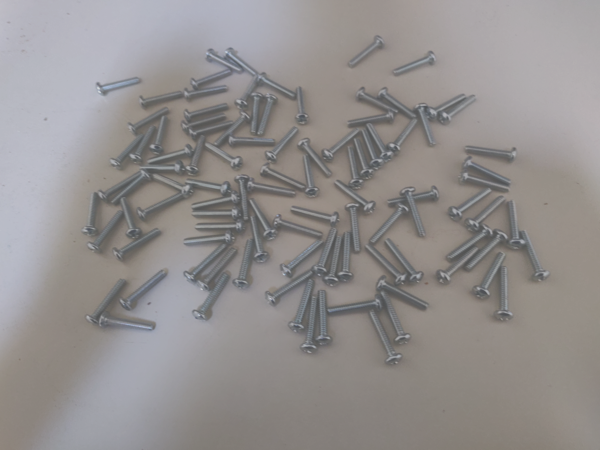longscrew: (121, 262, 169, 310), (385, 234, 426, 286), (464, 232, 513, 273), (435, 247, 484, 288), (377, 274, 431, 311), (363, 239, 405, 286), (136, 186, 187, 223), (381, 286, 411, 348), (195, 273, 232, 323), (282, 237, 328, 277), (367, 205, 414, 244), (370, 308, 401, 367), (522, 230, 555, 284), (87, 280, 126, 324), (89, 209, 127, 254), (264, 273, 314, 307), (114, 226, 162, 261), (185, 245, 231, 280), (472, 256, 511, 297), (199, 249, 240, 288), (445, 228, 496, 259), (326, 291, 384, 318), (288, 282, 318, 333), (100, 166, 141, 202), (384, 181, 438, 208), (334, 179, 375, 214), (94, 66, 141, 96), (466, 198, 511, 229), (447, 188, 492, 219), (110, 170, 149, 204), (205, 137, 246, 169), (461, 170, 511, 196), (248, 198, 278, 241), (495, 266, 518, 322), (110, 132, 143, 171), (321, 131, 361, 163), (310, 227, 336, 276), (385, 118, 419, 155), (379, 85, 417, 118), (299, 139, 332, 177), (265, 126, 303, 159), (465, 156, 511, 183), (131, 100, 171, 131), (403, 185, 425, 241), (146, 139, 194, 164), (216, 111, 250, 146), (357, 86, 399, 114), (414, 100, 437, 151), (316, 288, 335, 349), (302, 294, 321, 355), (97, 312, 158, 331), (273, 214, 323, 237), (438, 96, 477, 125), (427, 93, 466, 122), (345, 105, 396, 127), (236, 239, 257, 291), (348, 35, 380, 69), (140, 84, 184, 108), (263, 164, 305, 189), (182, 228, 234, 248), (191, 62, 231, 88), (181, 108, 226, 131), (343, 146, 367, 189), (292, 84, 316, 127), (253, 74, 296, 98), (189, 188, 238, 209), (131, 125, 158, 163), (205, 43, 239, 73), (120, 193, 142, 239), (151, 173, 193, 197), (289, 205, 339, 225), (361, 131, 388, 168), (224, 45, 257, 75), (186, 98, 229, 121), (365, 124, 392, 160), (352, 142, 379, 178), (224, 130, 275, 149), (395, 51, 435, 75), (182, 80, 230, 100), (251, 212, 269, 265), (506, 202, 525, 252), (188, 117, 235, 137), (326, 229, 343, 284), (187, 131, 207, 176), (235, 75, 263, 107), (242, 181, 300, 196), (303, 153, 321, 200), (463, 145, 516, 160), (82, 192, 100, 236), (259, 95, 279, 134), (236, 174, 252, 221), (149, 117, 169, 154), (191, 218, 244, 231), (136, 158, 183, 172), (341, 232, 353, 283), (192, 206, 239, 219), (249, 94, 264, 134), (349, 203, 360, 254), (186, 179, 231, 190)
